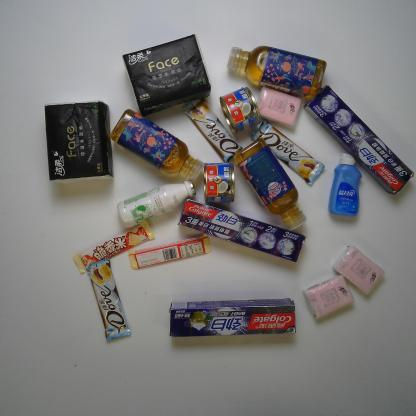Canned Food: (219, 86, 265, 135), (200, 163, 241, 204)
Chocolate: (250, 119, 332, 184), (85, 258, 139, 346), (65, 226, 155, 272), (185, 96, 241, 160), (132, 229, 210, 272)
Drink: (234, 138, 318, 233), (104, 108, 203, 185), (222, 38, 336, 100)
Milk: (118, 176, 202, 229)
Personal Hygiene: (307, 85, 413, 197), (156, 294, 304, 350), (177, 200, 305, 264), (327, 150, 364, 219)
Tissue: (114, 34, 214, 113), (33, 101, 117, 183), (332, 246, 390, 300), (301, 276, 358, 321), (256, 85, 302, 126)
